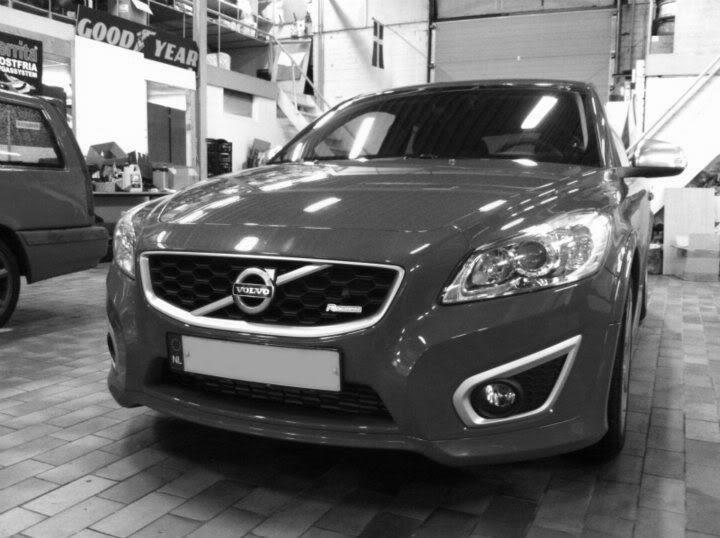car: (105, 84, 651, 472)
